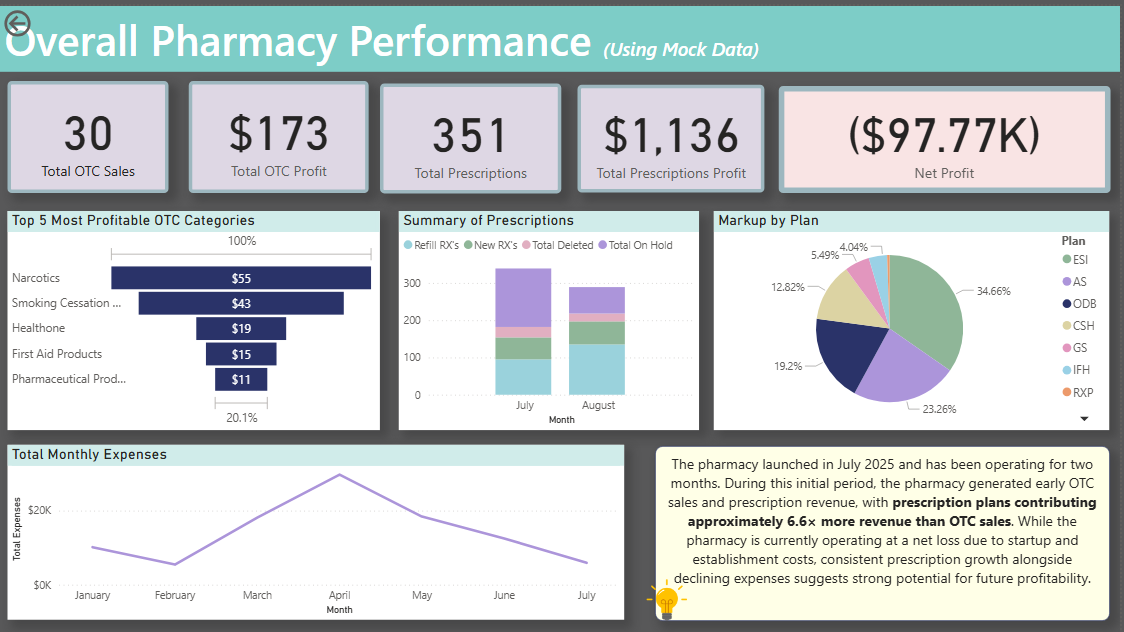

The page's visual inventory and layout, read from the dashboard file:
{"tool":"powerbi","page":{"name":"Dashboard","canvas":[1280,720],"ordinal":0},"visuals":[{"type":"card","fields":{"Values":["All Expenses.Total Sales"]},"box":[8.1,86,183.7,127.9],"z":0},{"type":"card","fields":{"Values":["OTC Summary.Total OTC Profit"]},"box":[215.1,86,205.8,127.9],"z":1000},{"type":"card","fields":{"Values":["Prescription Summary.Total Prescriptions"]},"box":[433.7,88.4,207,125.6],"z":2000},{"type":"card","fields":{"Values":["Sum(Prescription By Plan.Total MarkUp Paid)"]},"box":[660.5,90.7,214,123.3],"z":3000},{"type":"columnChart","title":"Summary of Prescriptions","fields":{"Y":["Sum(Prescription By Plan.Refill RX's)","Sum(Prescription By Plan.New RX's)","Sum(Prescription Summary.Total Deleted)","Sum(Prescription Summary.Total On Hold)"],"Category":["Calendar.Month Name"]},"box":[455.7,234.3,342.9,250],"z":4000},{"type":"textbox","box":[0,0,1280.3,75.5],"z":5000},{"type":"pieChart","title":"Markup by Plan","fields":{"Category":["Prescription By Plan.Plan"],"Y":["Sum(Prescription By Plan.Total MarkUp Paid)"]},"box":[816.3,234.9,452.3,250],"z":6000},{"type":"funnel","title":"Top 5 Most Profitable OTC Categories","fields":{"Y":["Sum(OTC by Groups.Profit)"],"Category":["OTC by Groups.Product Category"]},"box":[8.6,234.3,425.7,250],"z":7000},{"type":"card","fields":{"Values":["Sum(All Expenses.Total (CAD))"]},"box":[245,526.2,326.2,122.5],"z":8000},{"type":"slicer","fields":{"Values":["Calendar.Month Name"]},"box":[73.8,546.2,171.2,115],"z":9000},{"type":"card","fields":{"Values":["All Expenses.Net Profit"]},"box":[889.5,91.9,379.1,122.1],"z":10000},{"type":"lineChart","title":"Total Monthly Expenses","fields":{"Y":["Sum(All Expenses.Total Expenses)"],"Category":["Calendar.Month Name"]},"box":[8.1,501.2,704.7,200],"z":11000},{"type":"textbox","box":[748.3,503.3,520,200],"z":12000},{"type":"image","box":[1180,628.6,72.9,82.9],"z":13000},{"type":"actionButton","box":[0,0,100,40],"z":14000}]}

Visuals, with their boxes in screenshot pixels (x1, y1, x2, y2), scaled from the page's 1280x720 canvas onto the 1124x632 screenshot:
card - All Expenses.Total Sales: bbox=[7, 75, 168, 188]
card - OTC Summary.Total OTC Profit: bbox=[189, 75, 370, 188]
card - Prescription Summary.Total Prescriptions: bbox=[381, 78, 563, 188]
card - Sum(Prescription By Plan.Total MarkUp Paid): bbox=[580, 80, 768, 188]
"Summary of Prescriptions" columnChart: bbox=[400, 206, 701, 425]
textbox: bbox=[0, 0, 1123, 66]
"Markup by Plan" pieChart: bbox=[717, 206, 1114, 426]
"Top 5 Most Profitable OTC Categories" funnel: bbox=[8, 206, 381, 425]
card - Sum(All Expenses.Total (CAD)): bbox=[215, 462, 502, 569]
slicer - Calendar.Month Name: bbox=[65, 479, 215, 580]
card - All Expenses.Net Profit: bbox=[781, 81, 1114, 188]
"Total Monthly Expenses" lineChart: bbox=[7, 440, 626, 615]
textbox: bbox=[657, 442, 1114, 617]
image: bbox=[1036, 552, 1100, 625]
actionButton: bbox=[0, 0, 88, 35]
